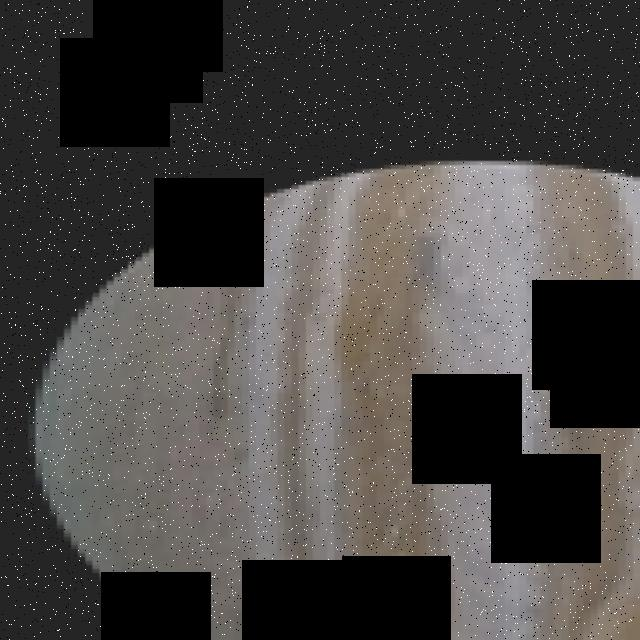Jupiter: (28, 164, 640, 640)
